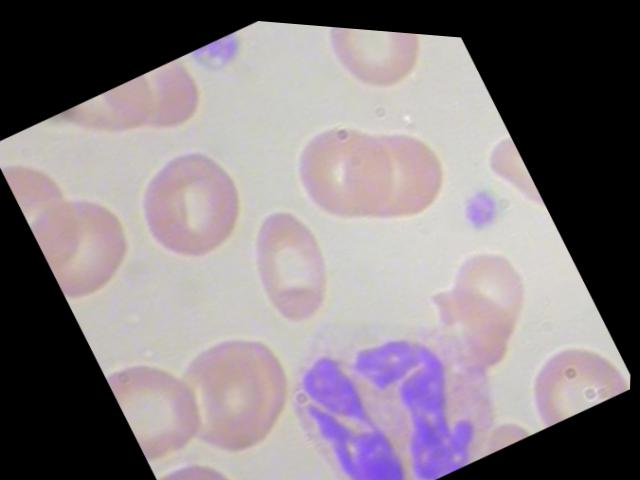Platelets: (442, 161, 513, 237), (183, 21, 259, 88)
Red Blood Cells: (147, 297, 318, 476), (116, 123, 270, 285), (318, 89, 464, 242), (275, 91, 419, 239), (20, 163, 158, 315), (227, 187, 354, 333), (427, 217, 554, 355), (102, 332, 220, 470), (506, 302, 633, 427), (295, 19, 448, 114), (55, 63, 179, 173), (445, 393, 542, 467), (153, 430, 272, 479), (226, 468, 341, 479)
White Blood Cells: (255, 253, 526, 479)
